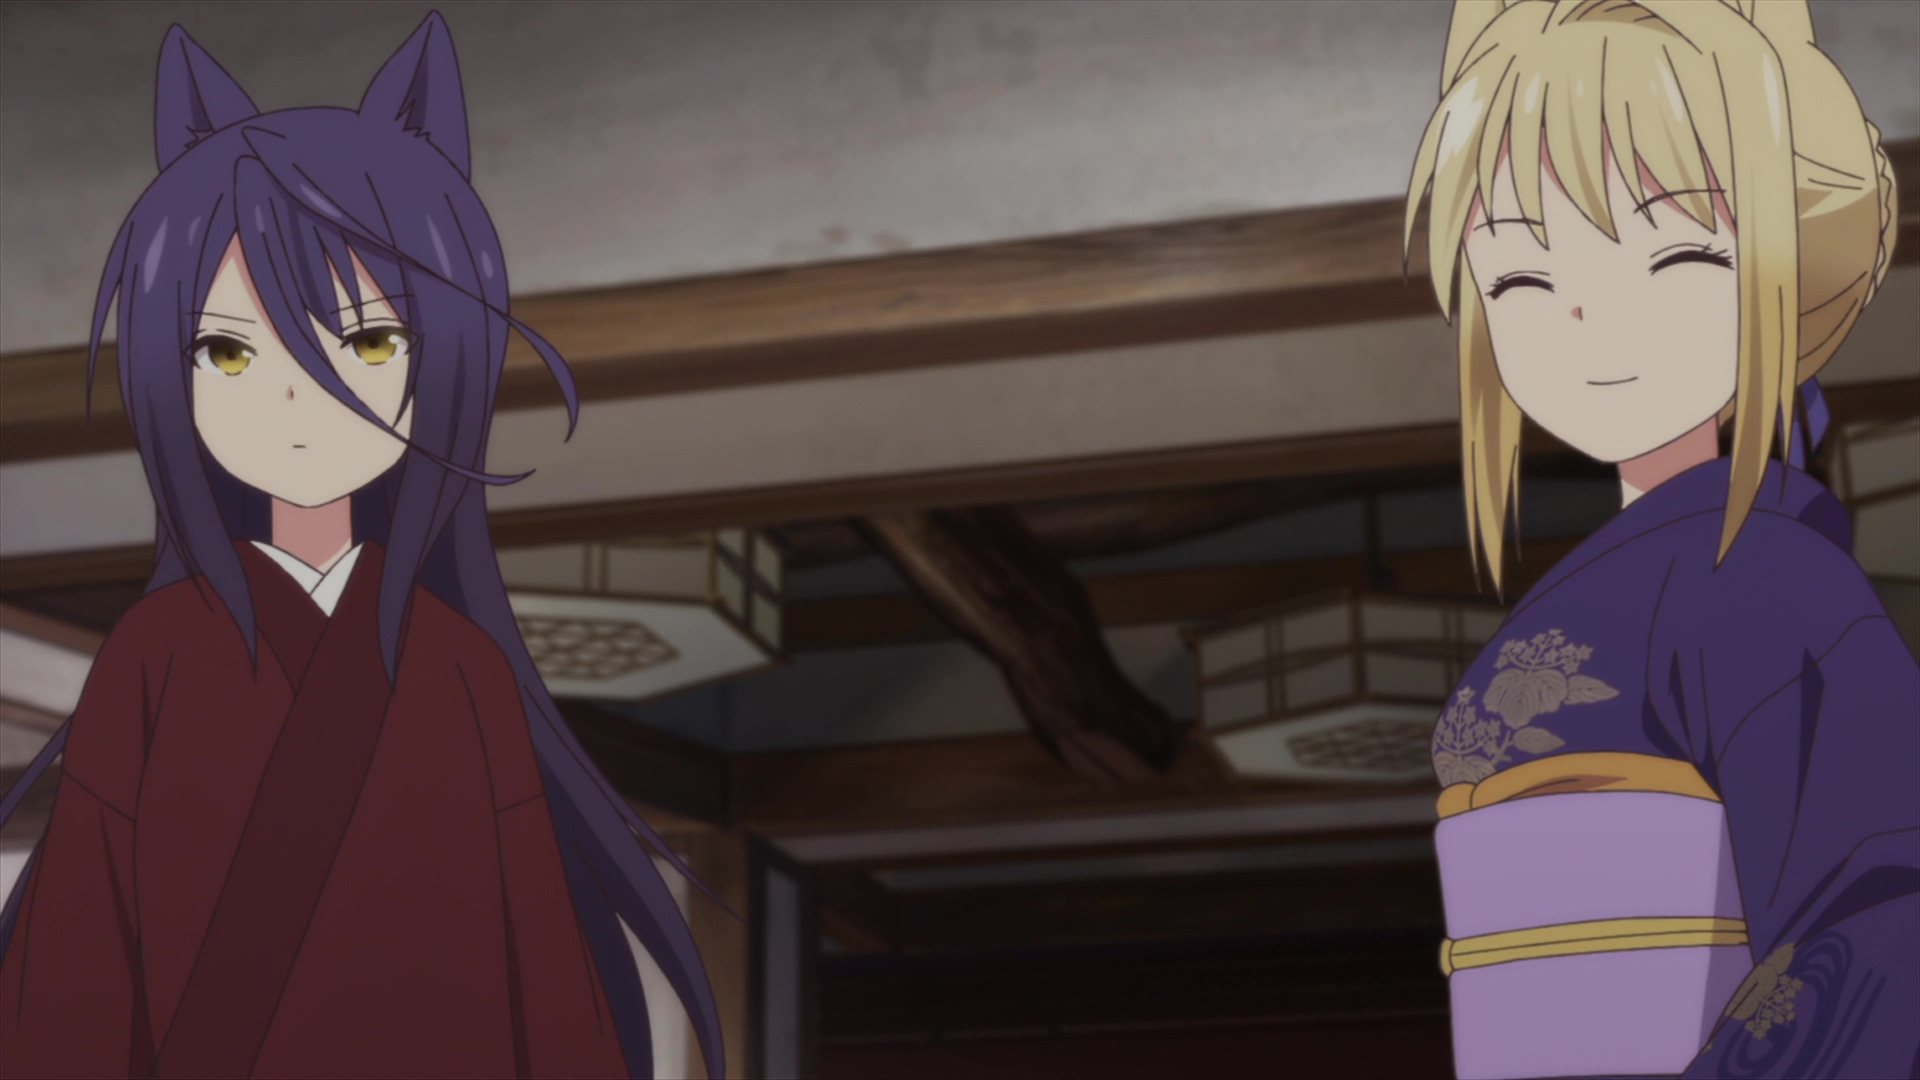桐: (1400, 1, 1920, 1080)
皋: (1, 1, 745, 1080)
